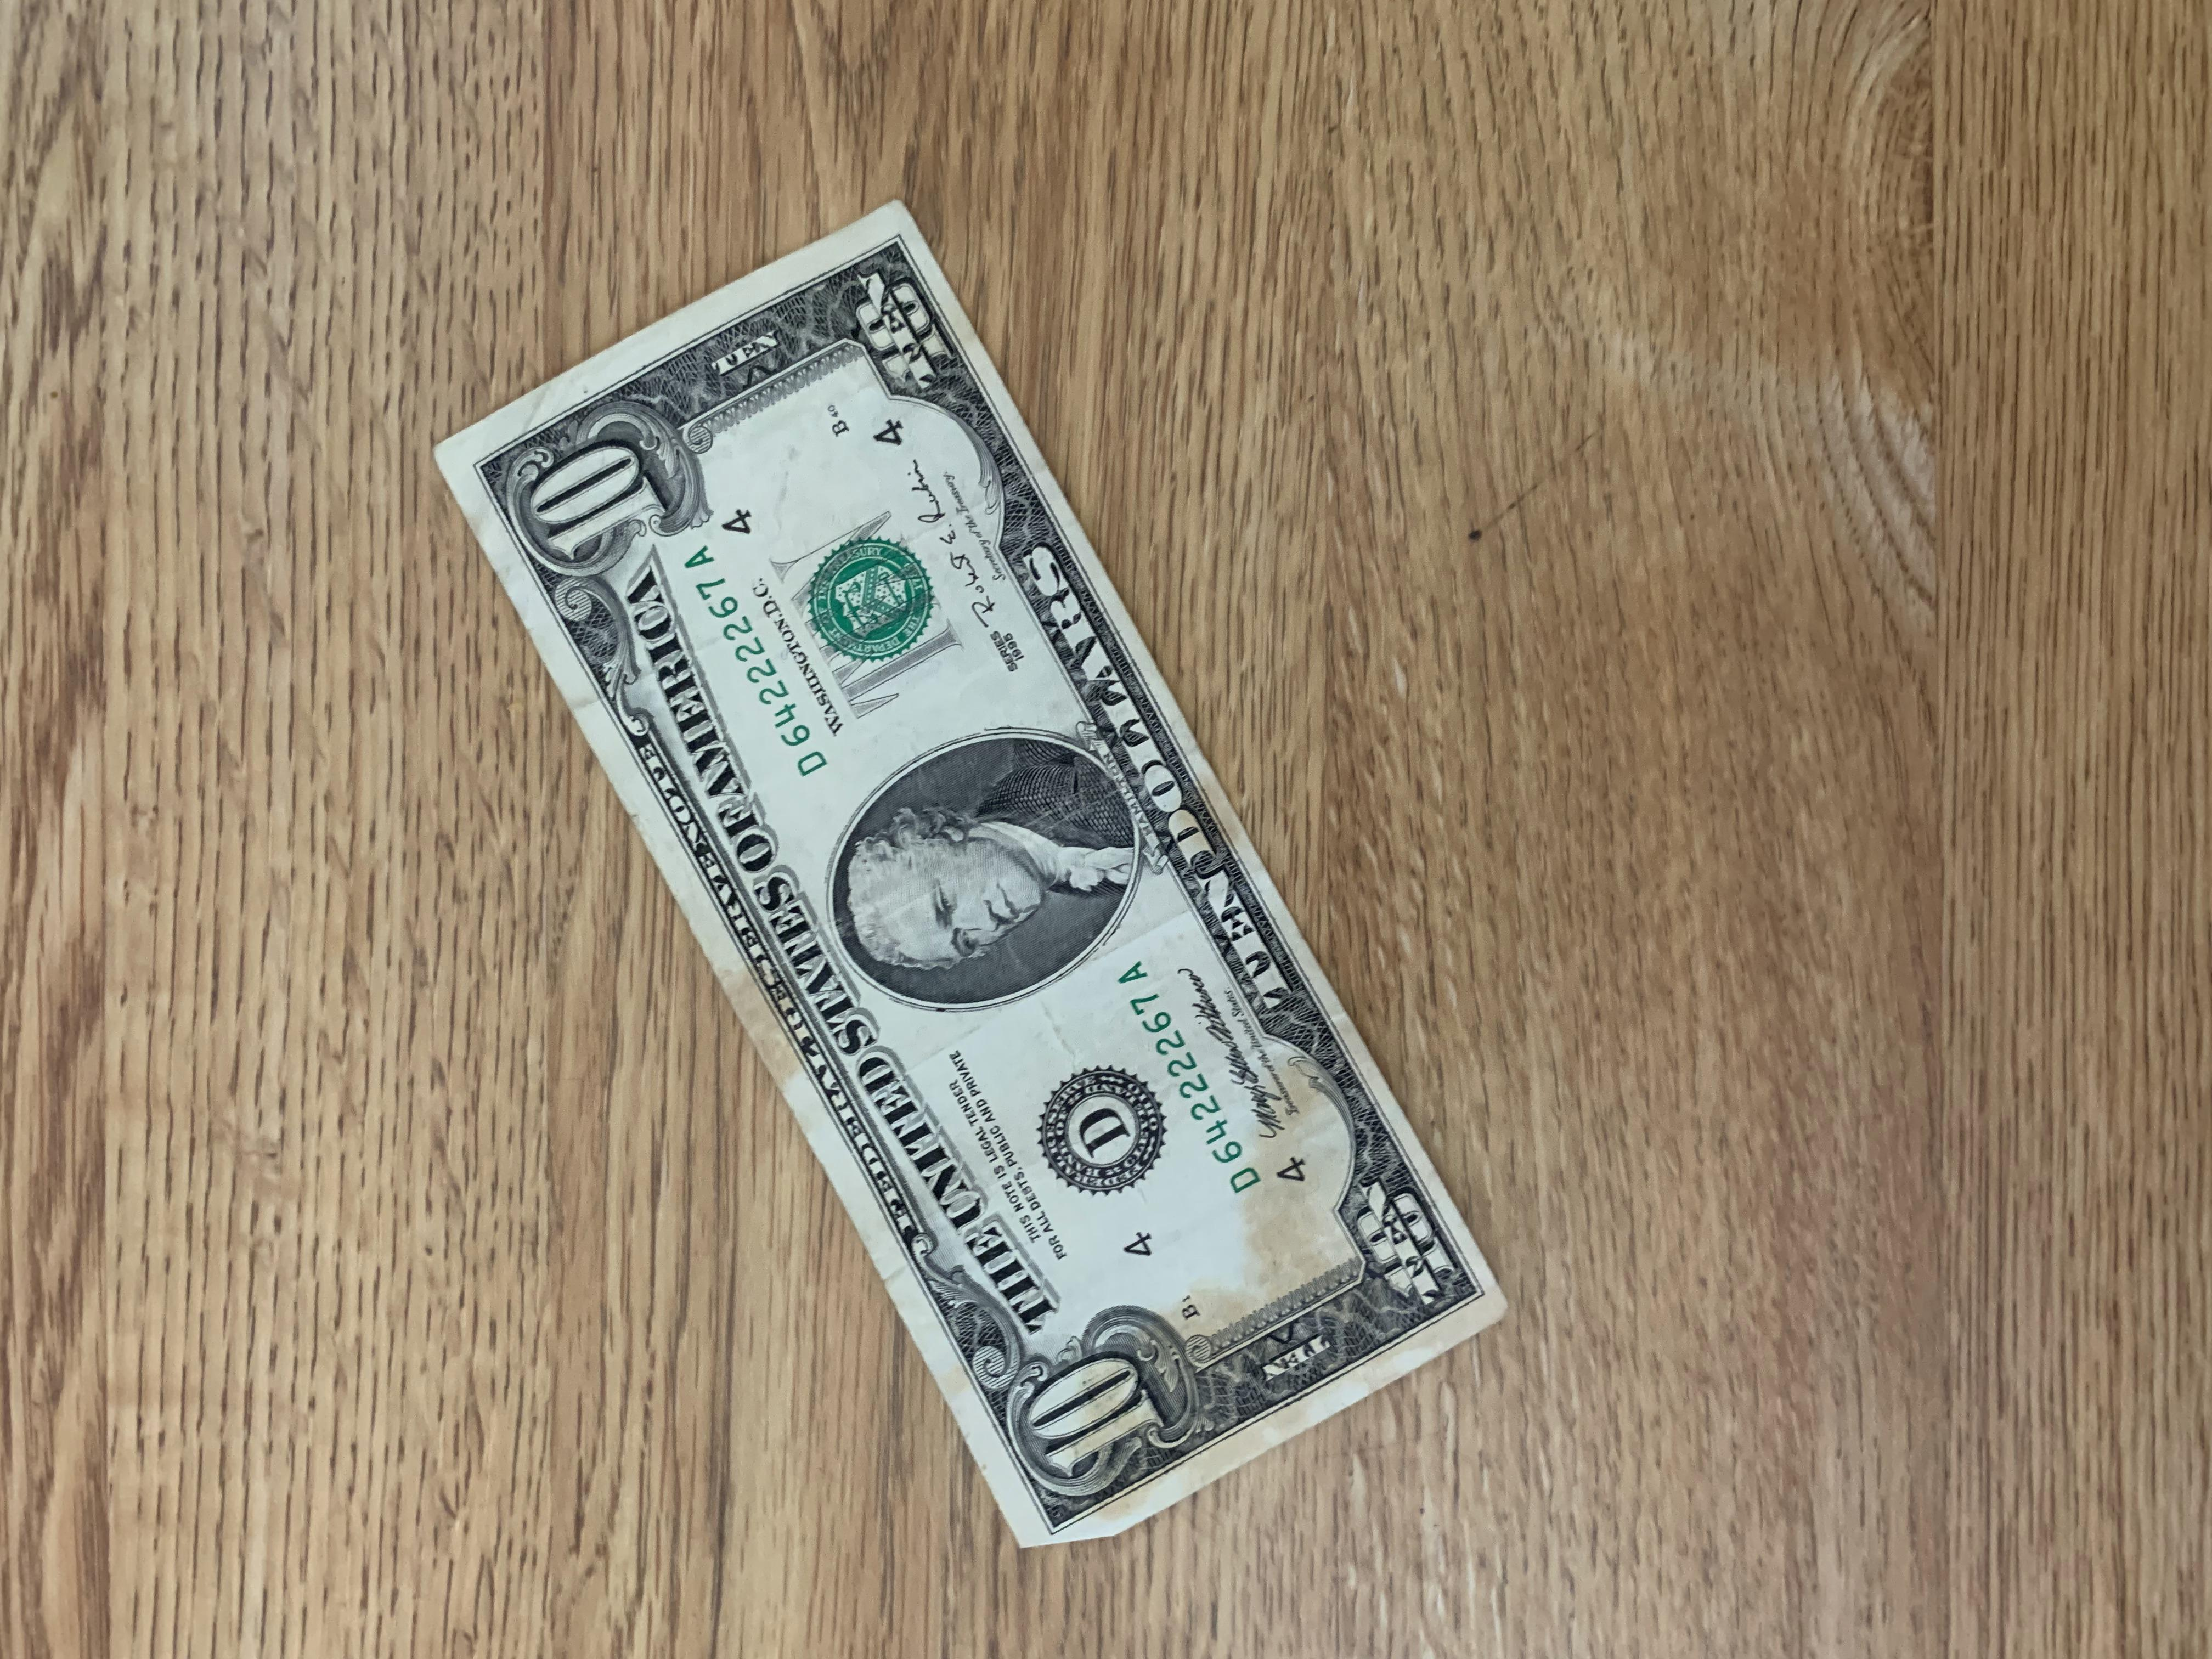TenBill: (434, 192, 1569, 1561)
